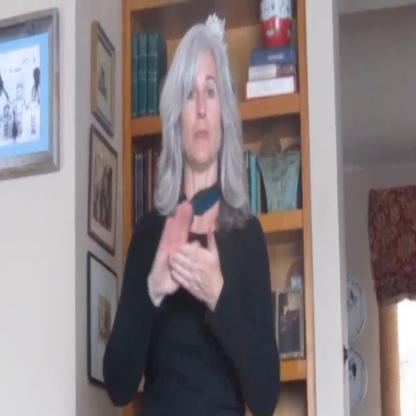NiceToMeetYou: (135, 176, 228, 332)
